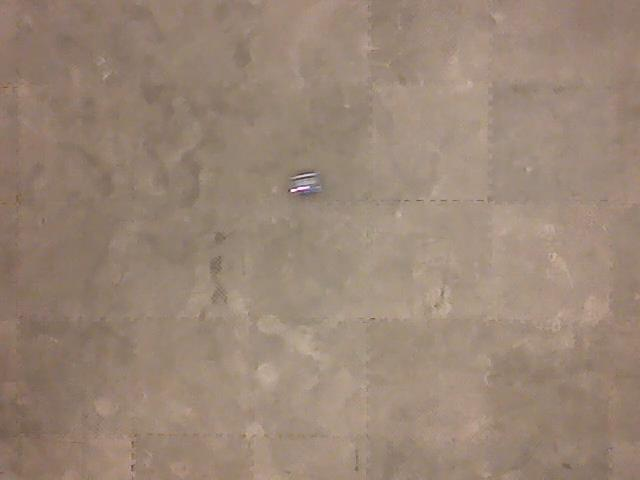Agent: (288, 169, 326, 199)
